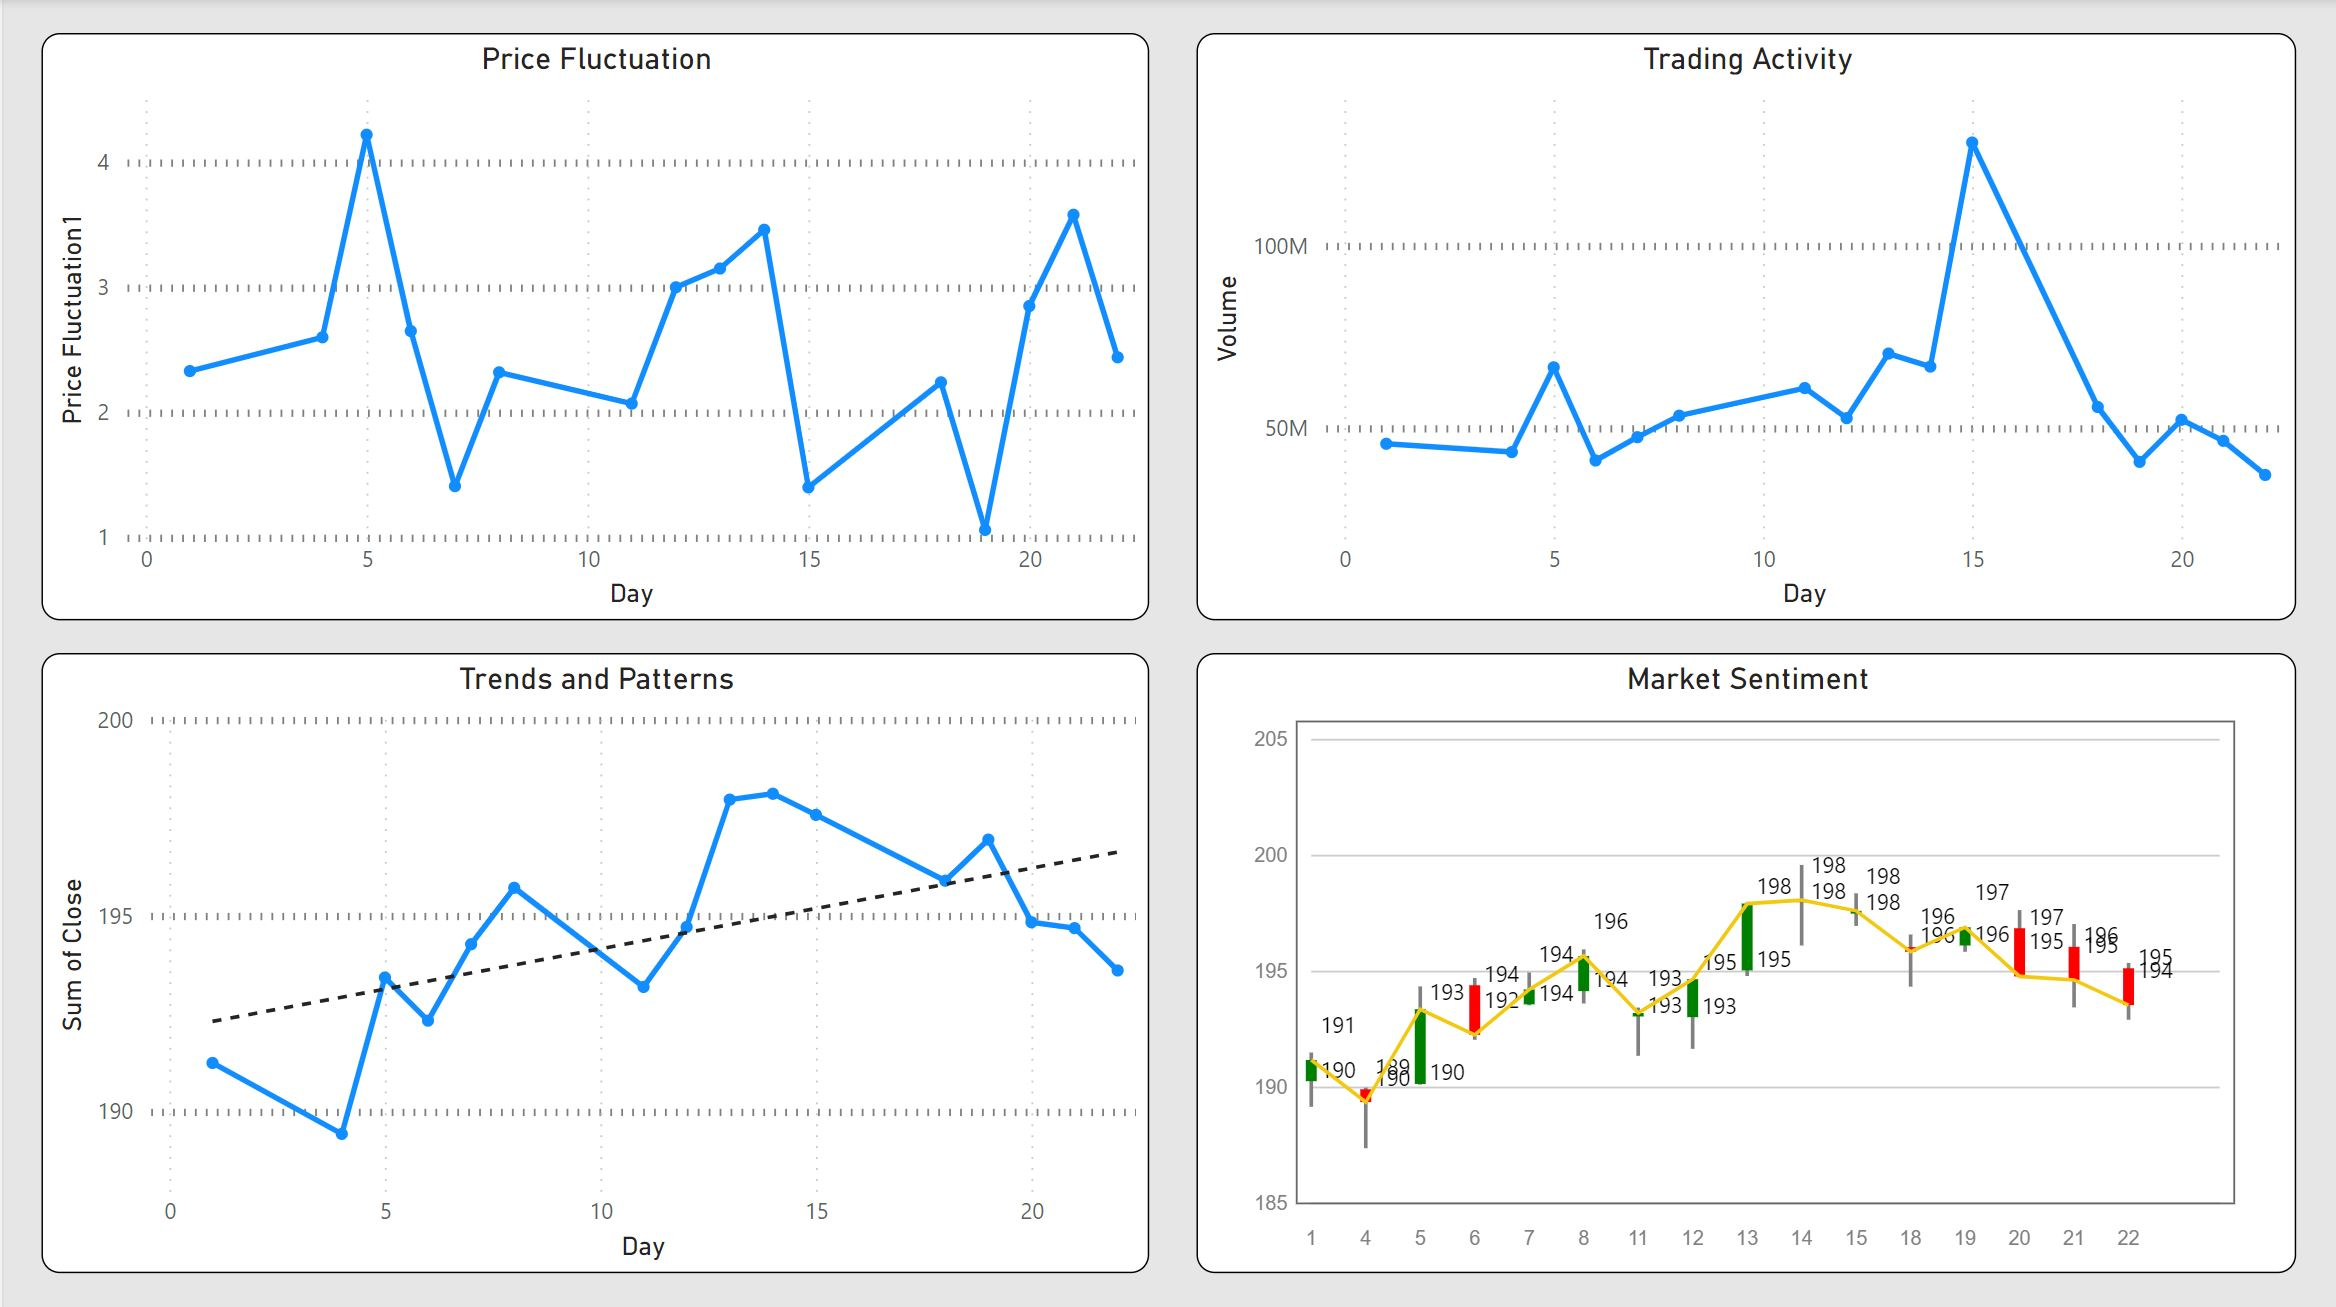

What the dashboard file says about the page in this screenshot:
{"tool":"powerbi","page":{"name":"Page 1","canvas":[1280,720],"ordinal":0},"visuals":[{"type":"lineChart","title":"Price Fluctuation","fields":{"Y":["Sum(Analysis Table.Price Fluctuation1)"],"Category":["Analysis Table.Date.Variation.Date Hierarchy.Day"]},"box":[20.6,19.2,607.9,322.5],"z":0},{"type":"lineChart","title":"Trading Activity","fields":{"Y":["Sum(Candlestick chart.Volume)"],"Category":["Candlestick chart.Date.Variation.Date Hierarchy.Day"]},"box":[654.5,19.2,603.8,322.5],"z":1000},{"type":"StockChart1464746768122","title":"Market Sentiment","fields":{"date":["Candlestick chart.Date.Variation.Date Hierarchy.Day"],"open":["Sum(Analysis Table.Open)"],"close":["Sum(Analysis Table.Close)"],"high":["Sum(Analysis Table.High)"],"low":["Sum(Analysis Table.Low)"]},"box":[654.5,359.5,603.8,340.3],"z":2000},{"type":"lineChart","title":"Trends and Patterns","fields":{"Category":["Analysis Table.Date.Variation.Date Hierarchy.Day"],"Y":["Sum(Analysis Table.Close)"]},"box":[20.6,359.5,607.9,340.3],"z":3000}]}

Visuals, with their boxes in screenshot pixels (x1, y1, x2, y2), scaled from the page's 1280x720 canvas onto the 2336x1307 screenshot:
"Price Fluctuation" lineChart: box=[38, 35, 1147, 620]
"Trading Activity" lineChart: box=[1194, 35, 2296, 620]
"Market Sentiment" StockChart1464746768122: box=[1194, 653, 2296, 1270]
"Trends and Patterns" lineChart: box=[38, 653, 1147, 1270]
